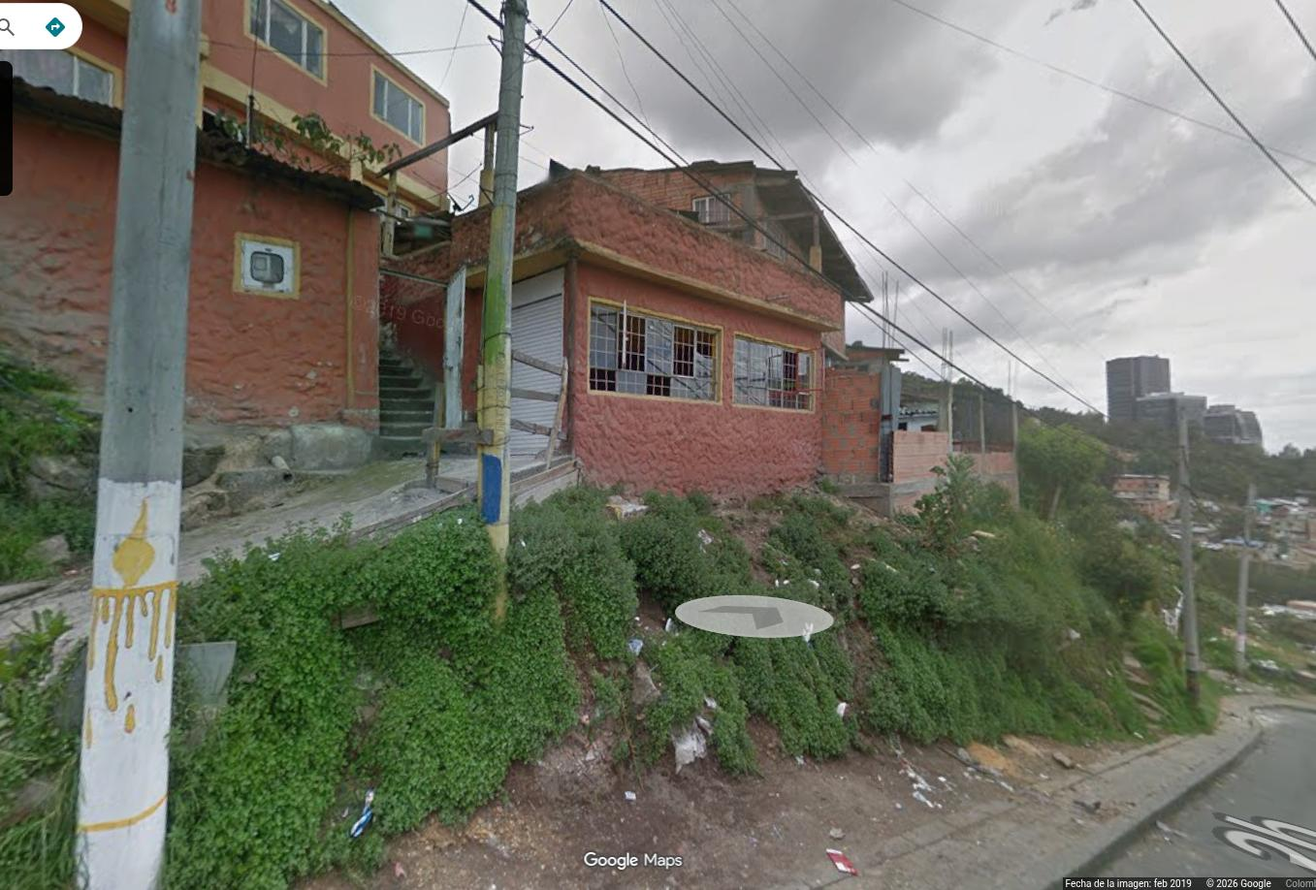casa: (511, 173, 842, 495), (421, 210, 489, 386), (510, 356, 560, 456)
poste: (76, 0, 201, 889), (477, 0, 526, 559), (1177, 410, 1201, 704), (1235, 483, 1255, 678)
